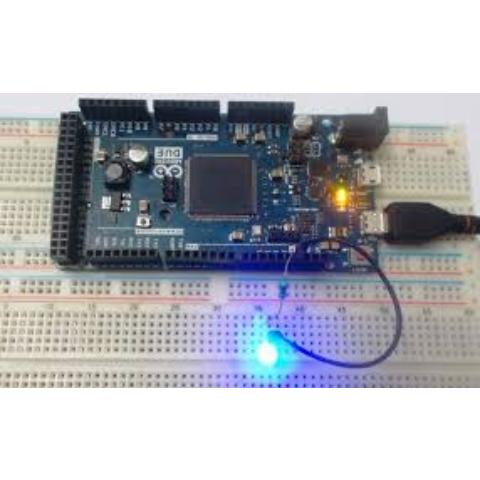Arduino-Due: (48, 96, 392, 274)
